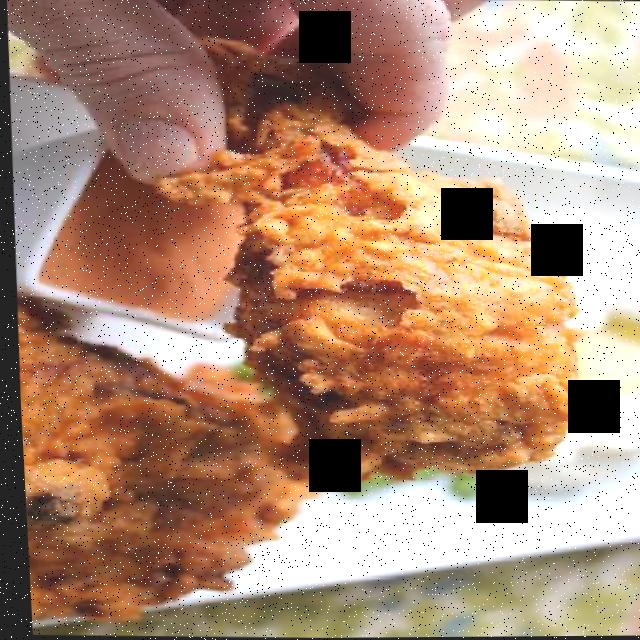Frango: (130, 18, 595, 493), (12, 293, 322, 624)
